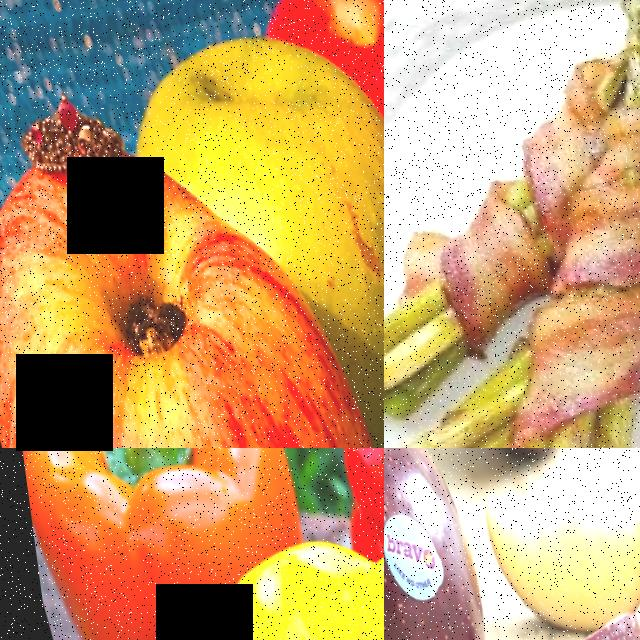apple: (0, 95, 384, 448), (247, 0, 384, 448), (455, 461, 640, 639), (384, 448, 519, 640), (454, 606, 640, 640)
bell pepper: (0, 448, 294, 585), (142, 542, 384, 640)
